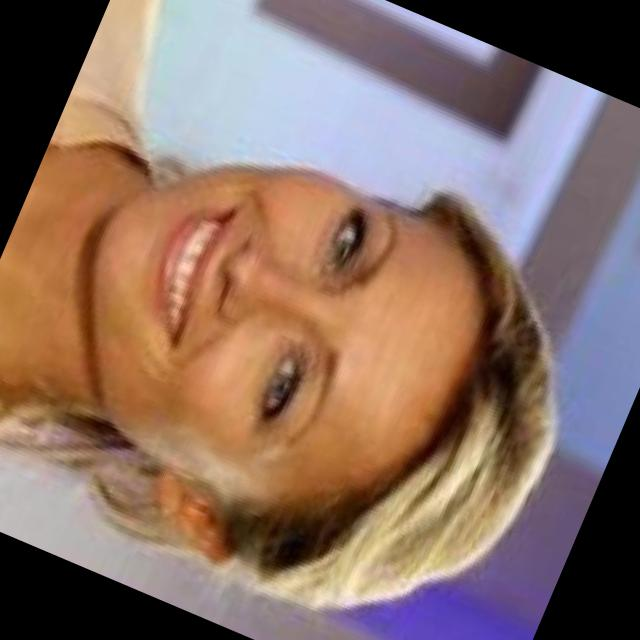bareface: (32, 120, 592, 640)
